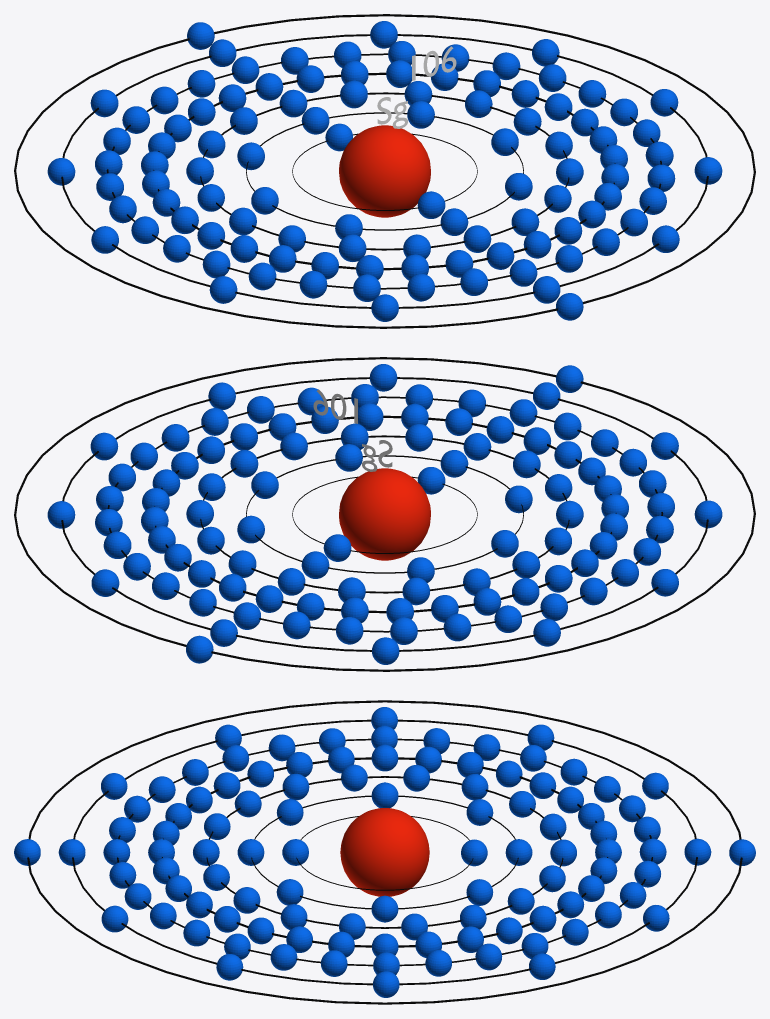
3 renders of one model, top to bottom at view 1: azimuth 30°, elevation 25°; view 2: azimuth 150°, elevation 25°; view 3: azimuth 270°, elevation 25°, orthographic. The views are drawn at different scales.
Visible parts, largest first — view 1: Sg5, Sg4, Sg3, Sg6, Proton, Sg2, n7, n6, Sg7, n5, Sg1, n3 (+3 smaller); view 2: Sg5, Sg4, Sg3, Sg6, Proton, Sg2, n7, n6, n5, Sg7, Sg1, n3 (+3 smaller); view 3: Sg5, Sg4, Sg3, Sg6, Proton, Sg2, n7, n6, n5, Sg1, Sg7, n3 (+2 smaller).
Part boxes in pixels (<box>): Sg5: <box>95,41,675,301</box>; Sg4: <box>141,60,628,280</box>; Sg3: <box>186,80,583,261</box>; Sg6: <box>47,21,722,321</box>; Proton: <box>339,125,430,217</box>; Sg2: <box>237,101,532,239</box>; n7: <box>14,14,755,328</box>; n6: <box>61,34,708,308</box>; Sg7: <box>187,22,583,320</box>; n5: <box>106,53,661,289</box>; Sg1: <box>325,123,445,218</box>; n3: <box>200,92,569,250</box>; Sg5: <box>95,384,674,644</box>; Sg4: <box>141,403,628,623</box>; Sg3: <box>186,423,583,605</box>; Sg6: <box>47,364,722,664</box>; Proton: <box>339,468,430,560</box>; Sg2: <box>237,444,532,582</box>; n7: <box>14,357,755,671</box>; n6: <box>61,377,708,651</box>; n5: <box>107,396,663,632</box>; Sg7: <box>186,365,583,663</box>; Sg1: <box>323,467,445,561</box>; n3: <box>200,435,569,593</box>; Sg5: <box>103,725,666,976</box>; Sg4: <box>148,744,621,957</box>; Sg3: <box>193,764,576,940</box>; Sg6: <box>58,707,711,997</box>; Proton: <box>340,808,429,896</box>; Sg2: <box>237,782,532,922</box>; n7: <box>27,700,742,1004</box>; n6: <box>72,719,697,985</box>; n5: <box>117,738,652,966</box>; Sg1: <box>282,839,487,866</box>; Sg7: <box>14,839,755,865</box>; n3: <box>206,776,563,928</box>.
Bounding box in the file's own units: 802 × 180 × 830.
